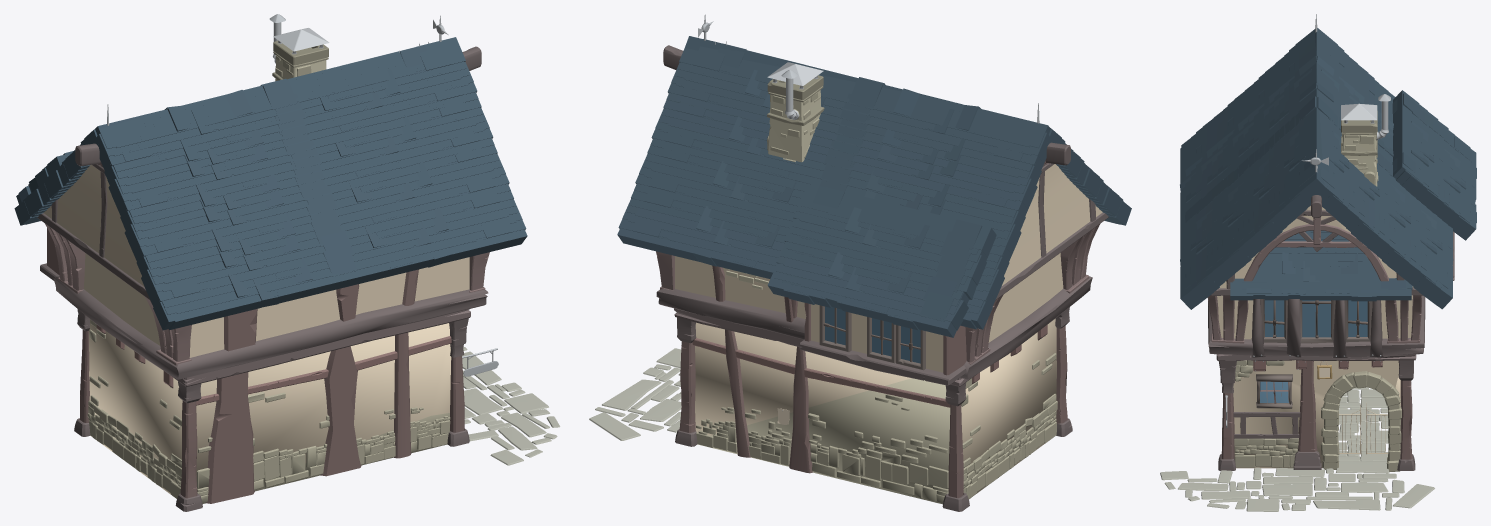
The picture shows the model from 3 angles, left to right: view 1: azimuth 30°, elevation 25°; view 2: azimuth 150°, elevation 25°; view 3: azimuth 270°, elevation 25°; orthographic projection. The views are drawn at different scales.
Parts seen in each view (by area): view 1: roof_tile_1, base.001, column, rocks_walls_down, holder_base_1, rocks_down, holders_3, holder_base_3, column_up1, roof_tile_, holders_base.001, column_up (+7 smaller); view 2: roof_tile_, base.001, roof_tile_2, rocks_walls_down, column, holder_base_1, rocks_down, roof_tile_1, holders_3, holders_base.001, holder_base_2, base_chimney (+13 smaller); view 3: roof_tile_1, roof_tile_, rocks_down, roof_tile_2, roof_tile_3, base.001, rocks_door, column, holders_3, columns_up, holder_base_1, rocks_walls_down (+15 smaller).
Boxes of the visible parts, <box> form: roof_tile_1: <box>93,37,527,330</box>; base.001: <box>43,165,469,503</box>; column: <box>80,330,464,503</box>; rocks_walls_down: <box>87,319,450,503</box>; holder_base_1: <box>53,276,488,379</box>; rocks_down: <box>462,347,560,465</box>; holders_3: <box>45,224,489,365</box>; holder_base_3: <box>167,309,470,386</box>; column_up1: <box>47,228,418,351</box>; roof_tile_: <box>14,78,286,225</box>; holders_base.001: <box>196,336,451,405</box>; column_up: <box>77,309,468,403</box>; roof_tile_: <box>617,46,1053,329</box>; base.001: <box>675,164,1102,504</box>; roof_tile_2: <box>767,183,996,337</box>; rocks_walls_down: <box>696,353,1057,503</box>; column: <box>679,325,1067,497</box>; holder_base_1: <box>656,276,1092,379</box>; rocks_down: <box>589,348,681,440</box>; roof_tile_1: <box>685,36,1131,225</box>; holders_3: <box>656,224,1099,364</box>; holders_base.001: <box>692,338,950,407</box>; holder_base_2: <box>799,339,966,385</box>; base_chimney: <box>768,90,821,162</box>; roof_tile_1: <box>1180,29,1327,309</box>; roof_tile_: <box>1306,28,1453,309</box>; rocks_down: <box>1160,387,1434,511</box>; roof_tile_2: <box>1392,90,1476,240</box>; roof_tile_3: <box>1230,230,1412,301</box>; base.001: <box>1217,206,1413,468</box>; rocks_door: <box>1320,371,1401,471</box>; column: <box>1221,360,1412,459</box>; holders_3: <box>1207,295,1421,343</box>; columns_up: <box>1250,299,1383,357</box>; holder_base_1: <box>1208,295,1425,357</box>; rocks_walls_down: <box>1234,360,1298,467</box>.
Bounding box in the file's own units: 15.91 × 13.55 × 11.52.
